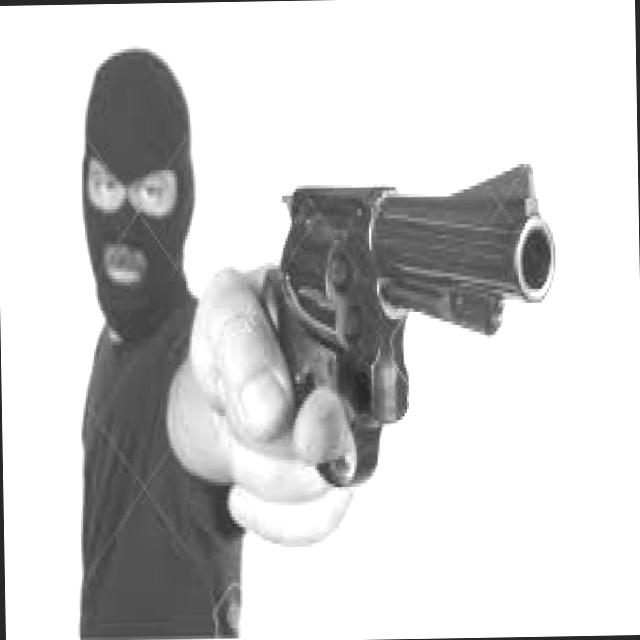handgun: (242, 160, 554, 484)
